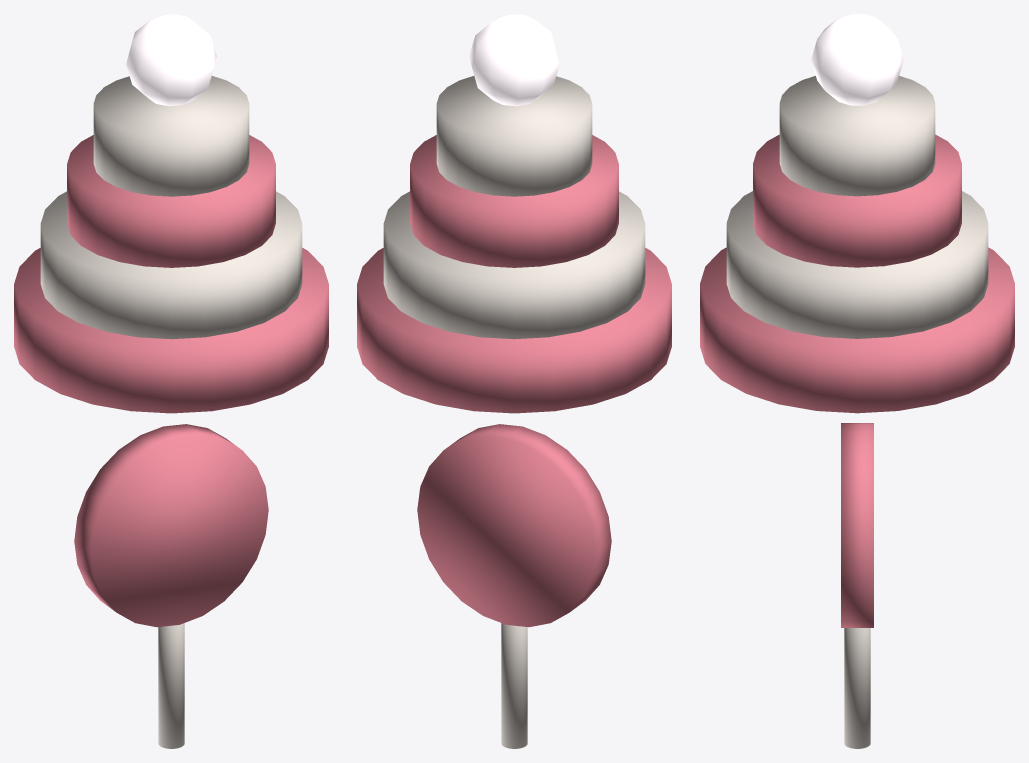
The model's file is opera_candymaker_outfit.glb.
3 views of the same model, side by side, from view 1: azimuth 30°, elevation 25°; view 2: azimuth 150°, elevation 25°; view 3: azimuth 270°, elevation 25° (orthographic).
Parts seen in each view (by area): view 1: LolliDisc, Stripe0, Stripe1, Stripe2, Stripe3, HatTip, LolliStick; view 2: LolliDisc, Stripe0, Stripe1, Stripe2, Stripe3, HatTip, LolliStick; view 3: Stripe0, Stripe1, Stripe2, Stripe3, LolliDisc, HatTip, LolliStick.
Part boxes in pixels (x1,y1,x2,y2): LolliDisc: [74, 424, 268, 627]; Stripe0: [14, 248, 328, 413]; Stripe1: [40, 191, 302, 339]; Stripe2: [67, 135, 275, 267]; Stripe3: [93, 76, 249, 196]; HatTip: [126, 14, 216, 106]; LolliStick: [158, 623, 184, 748]; LolliDisc: [417, 424, 611, 627]; Stripe0: [357, 248, 671, 413]; Stripe1: [383, 191, 645, 339]; Stripe2: [410, 135, 618, 267]; Stripe3: [436, 76, 592, 196]; HatTip: [469, 14, 559, 106]; LolliStick: [501, 623, 527, 748]; Stripe0: [700, 247, 1014, 413]; Stripe1: [726, 191, 988, 338]; Stripe2: [753, 134, 961, 267]; Stripe3: [779, 76, 935, 196]; LolliDisc: [841, 423, 873, 627]; HatTip: [811, 14, 903, 105]; LolliStick: [844, 628, 870, 748].
Bounding box in the file's own units: 1.9 × 4.83 × 1.9.
